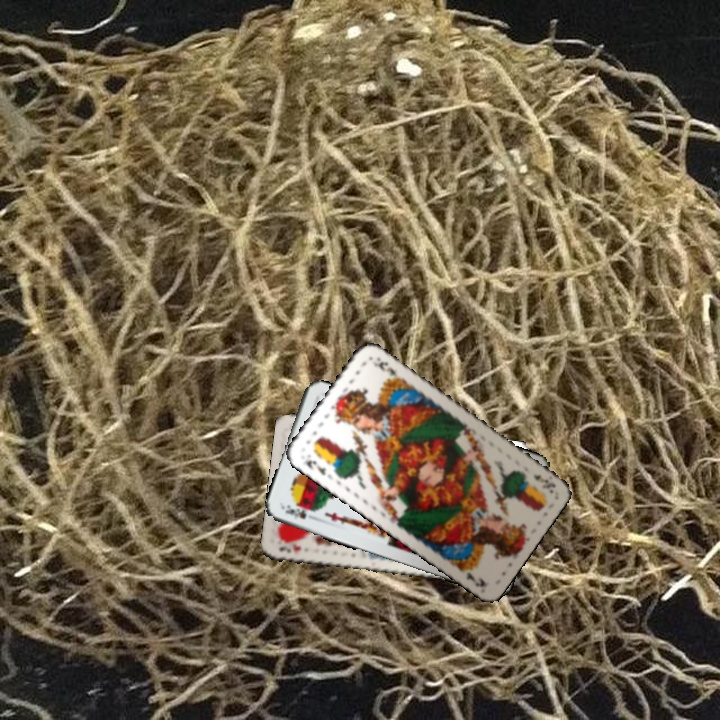EK: (529, 470, 558, 495), (302, 456, 328, 478)
HK: (275, 537, 303, 556)
SK: (281, 500, 309, 522)
